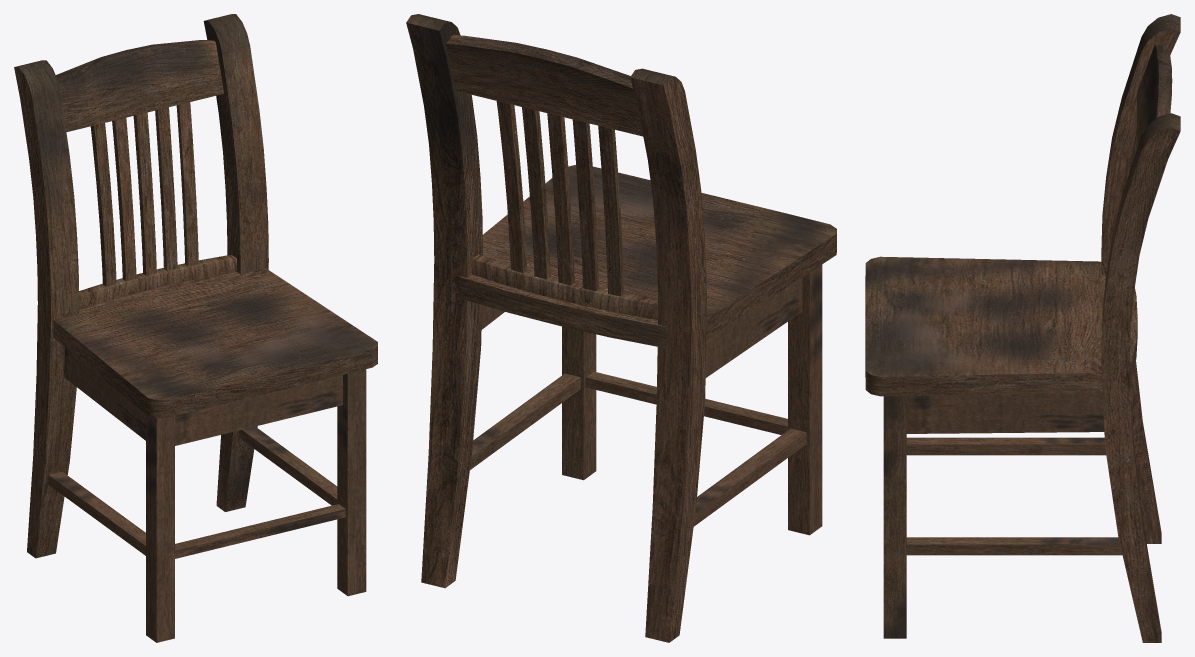
Rendered from Chair.FBX.
The picture shows the model from 3 angles, left to right: view 1: azimuth 30°, elevation 25°; view 2: azimuth 150°, elevation 25°; view 3: azimuth 270°, elevation 25°; orthographic projection. The views are drawn at different scales.
Visible parts, largest first — view 1: chair; view 2: chair; view 3: chair.
Part boxes in pixels (x1=…): chair: x1=14, y1=14, x2=377, y2=642; chair: x1=406, y1=14, x2=836, y2=642; chair: x1=865, y1=14, x2=1180, y2=642.
Bounding box in the file's own units: 55.44 × 111 × 61.46.
1 material, 1 textured.
